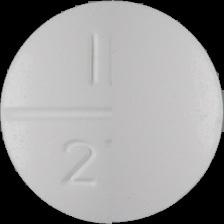53746-271: (0, 0, 224, 224)
